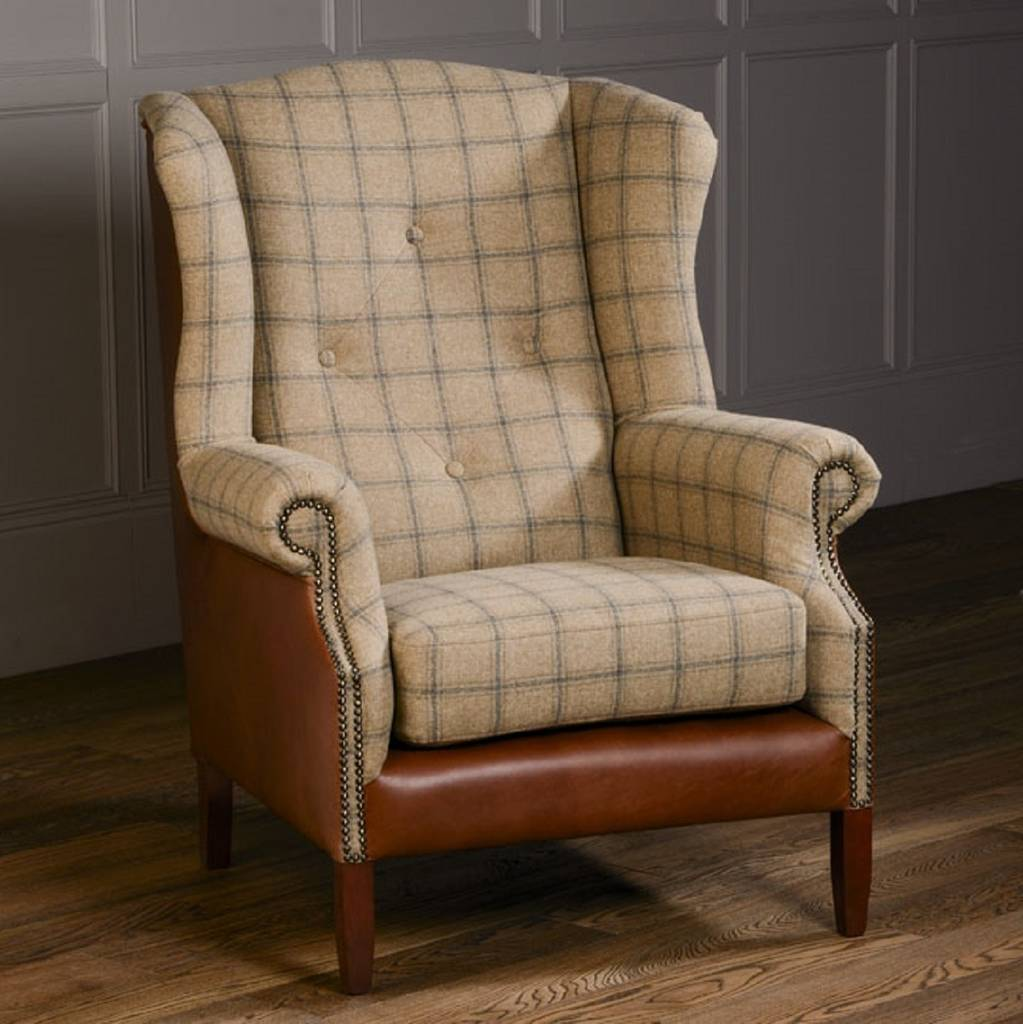chairs: (133, 59, 891, 989)
